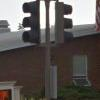Traffic light: (17, 3, 81, 50)
